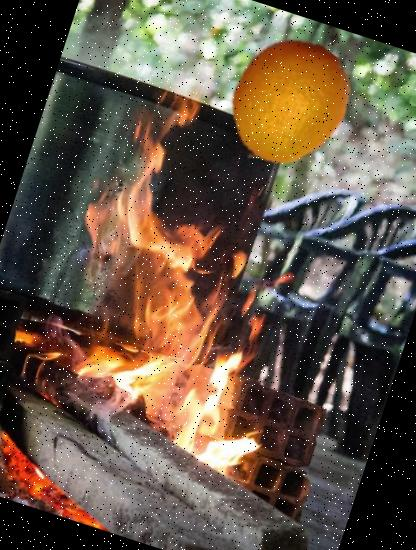Lemon: (202, 20, 371, 188)
